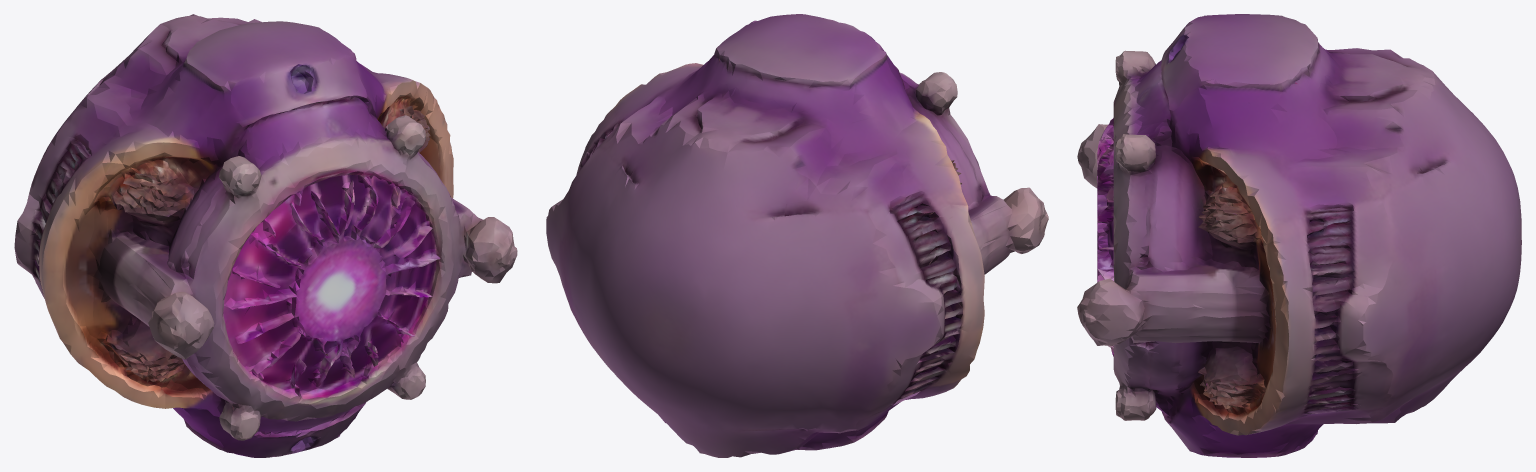
File: kraken_engine_aux.glb
3 views of the same model, side by side, from view 1: azimuth 30°, elevation 25°; view 2: azimuth 150°, elevation 25°; view 3: azimuth 270°, elevation 25° (orthographic). The views are drawn at different scales.
Visible parts, largest first — view 1: kraken_engine_aux; view 2: kraken_engine_aux; view 3: kraken_engine_aux.
Boxes of the visible parts, x1=… form: kraken_engine_aux: x1=14, y1=14, x2=517, y2=457; kraken_engine_aux: x1=546, y1=14, x2=1048, y2=457; kraken_engine_aux: x1=1077, y1=14, x2=1521, y2=457.
Bounding box in the file's own units: 1.53 × 1.4 × 1.4.
1 material, 1 textured.
